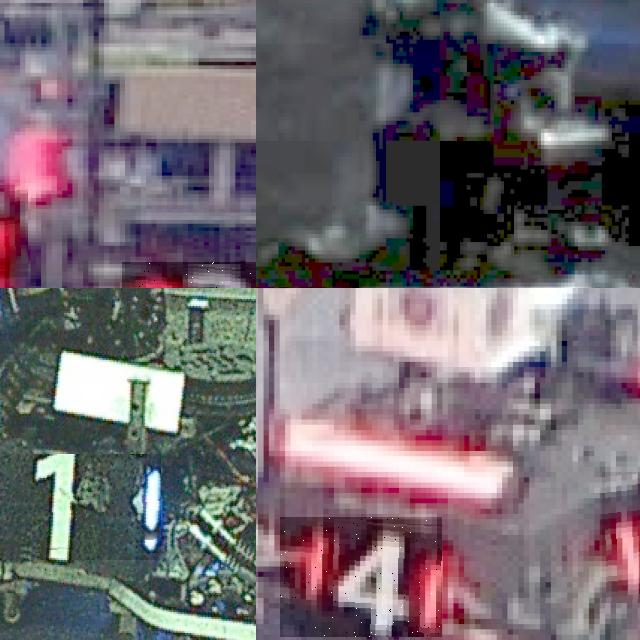B1: (0, 454, 161, 560)
R2: (122, 262, 256, 288), (0, 185, 28, 277)
R4: (280, 517, 442, 637), (602, 472, 640, 603)
